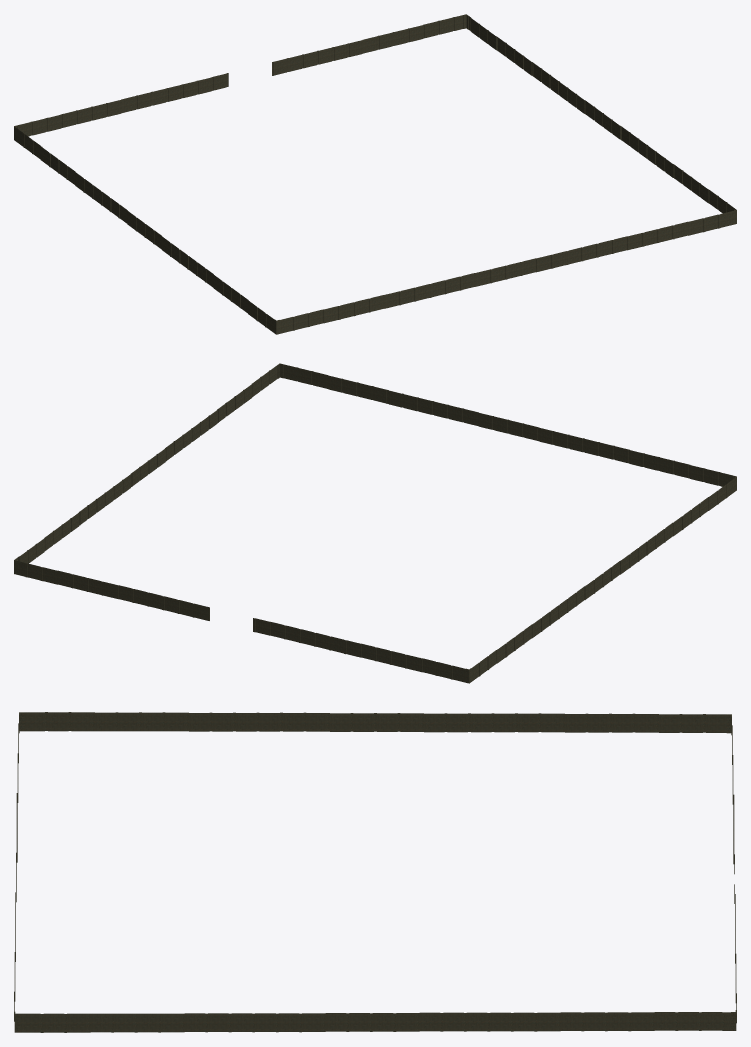
File: FenceUnity.fbx
The picture shows the model from 3 angles, top to bottom: view 1: azimuth 30°, elevation 25°; view 2: azimuth 150°, elevation 25°; view 3: azimuth 270°, elevation 25°; orthographic projection. The views are drawn at different scales.
Visible parts, largest first — view 1: Fence; view 2: Fence; view 3: Fence.
Part boxes in pixels (left/top/right/bottom): Fence: left=14, top=14, right=736, bottom=334; Fence: left=14, top=363, right=736, bottom=683; Fence: left=14, top=712, right=736, bottom=1032.
Bounding box in the file's own units: 76 × 2.2 × 76.9.
Materials: 1 (1 with a texture image).
